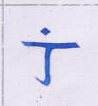anusvara: (41, 28, 51, 35)
